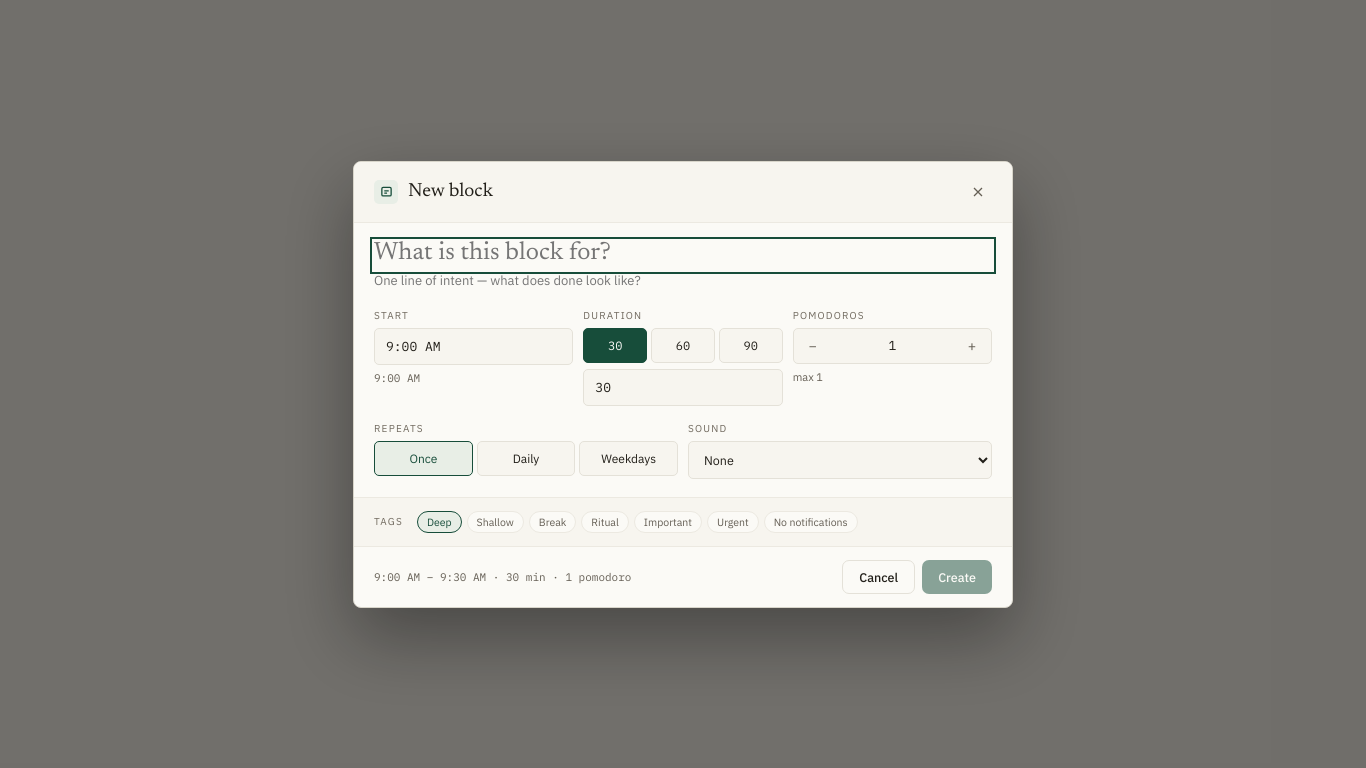
Test case: BlockComposer flows › duration validation (Phase 11 P2 field/draft/save agreement) › unparseable "abc": "Try 90, 1.5h, or 1h30" hint and Create disabled
Type "Bad duration" into the field with placeholder "What is this block for?" at {"x": 683, "y": 255}, box [374, 240, 992, 270]
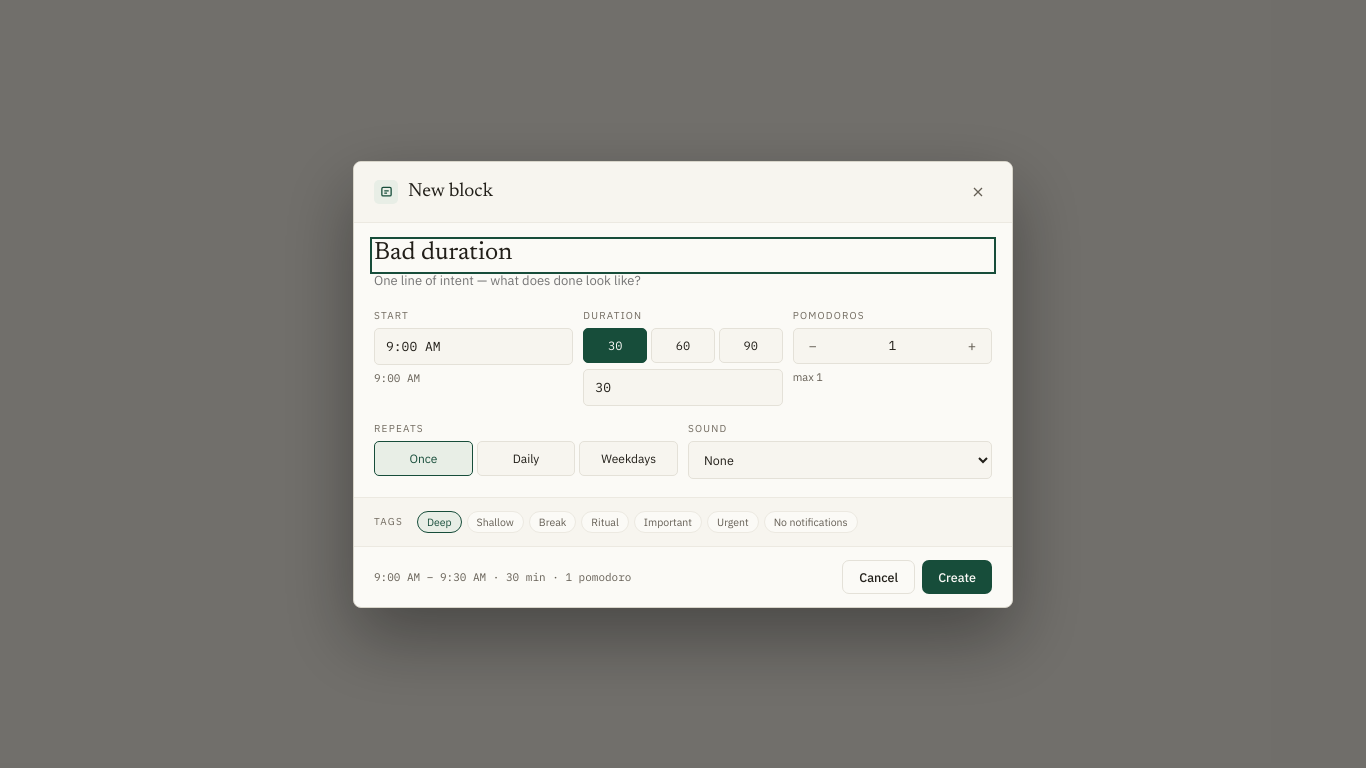
Replace the text in the field with placeholder "90" below "Duration" with "abc" at {"x": 683, "y": 387}, box [583, 368, 783, 406]
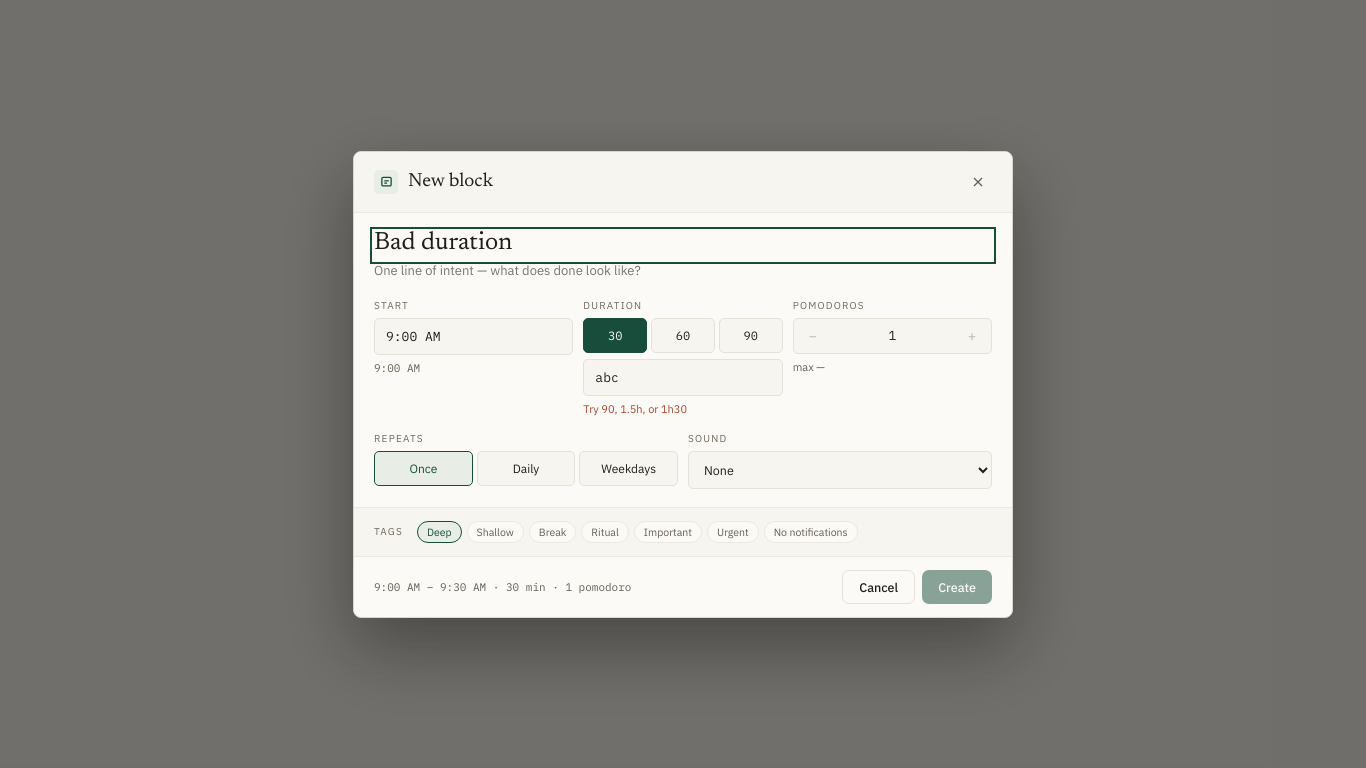
Result: the text "Try 90, 1.5h, or 1h30" is shown at [583, 402, 687, 416]
Result: the button "Create" is disabled at [922, 570, 992, 604]
